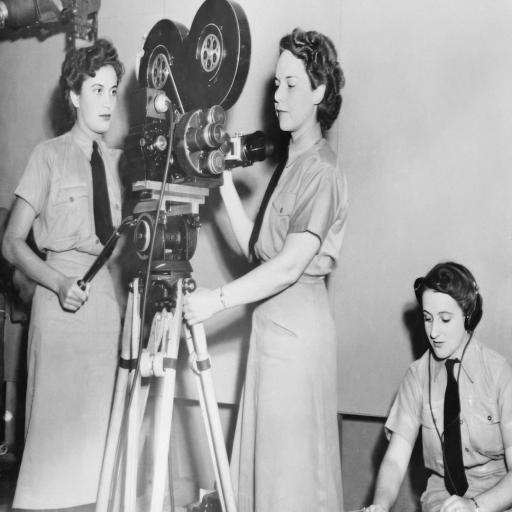face: (275, 50, 324, 139), (71, 66, 117, 139), (422, 289, 468, 359)
